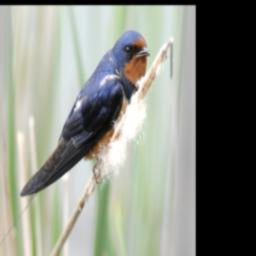Swallow: (19, 29, 152, 198)
